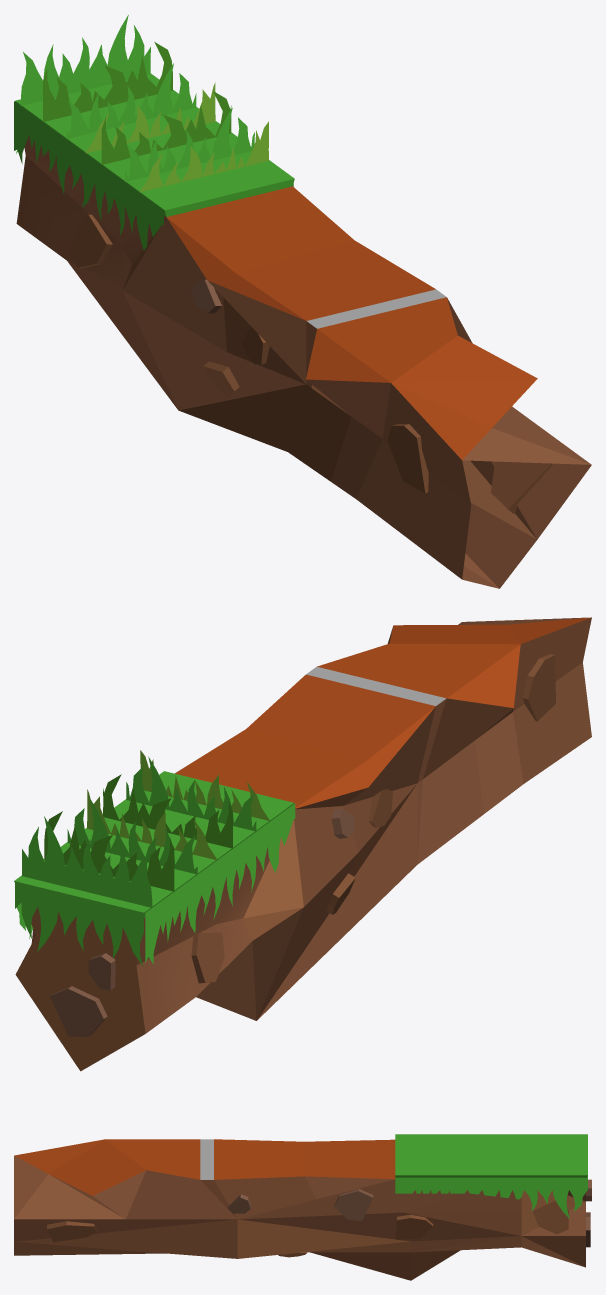
The model's file is platform_small_02.fbx.
3 renders of one model, top to bottom at view 1: azimuth 30°, elevation 25°; view 2: azimuth 150°, elevation 25°; view 3: azimuth 270°, elevation 25°, orthographic. The views are drawn at different scales.
Visible parts, largest first — view 1: platform_small_02, platform_small_grass_02; view 2: platform_small_02, platform_small_grass_02; view 3: platform_small_02, platform_small_grass_02.
Part boxes in pixels (box(x1,y1,x2,y2)): platform_small_02: box(15, 73, 591, 588); platform_small_grass_02: box(14, 15, 293, 250); platform_small_02: box(14, 617, 591, 1071); platform_small_grass_02: box(15, 750, 295, 966); platform_small_02: box(14, 1134, 591, 1280); platform_small_grass_02: box(395, 1134, 587, 1218).
Size of the model in its own units: 203 by 308 by 894.
